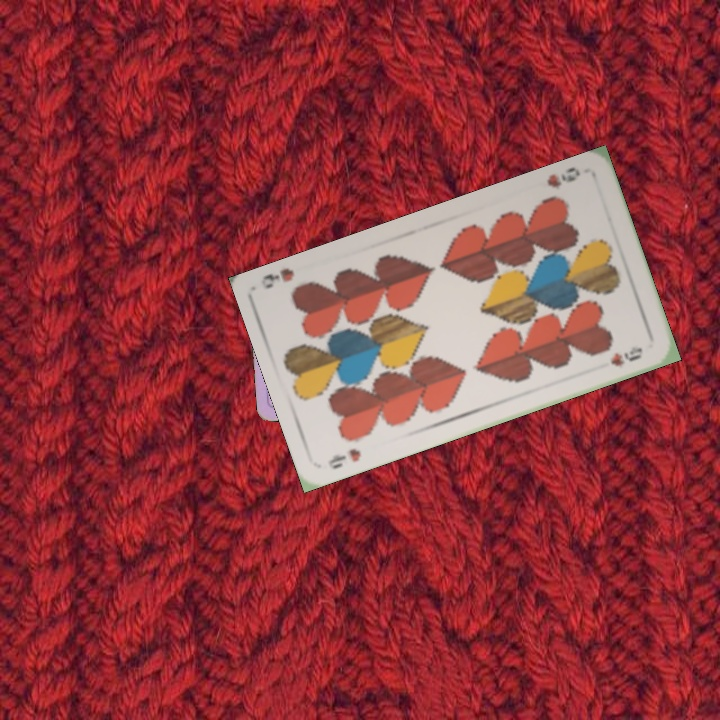H9: (543, 163, 583, 192), (324, 444, 364, 472)
